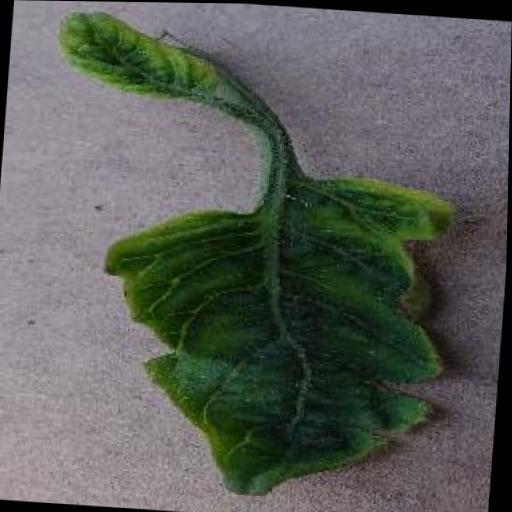Yellow Leaf Curl Virus: (90, 158, 469, 508), (55, 8, 241, 109)
